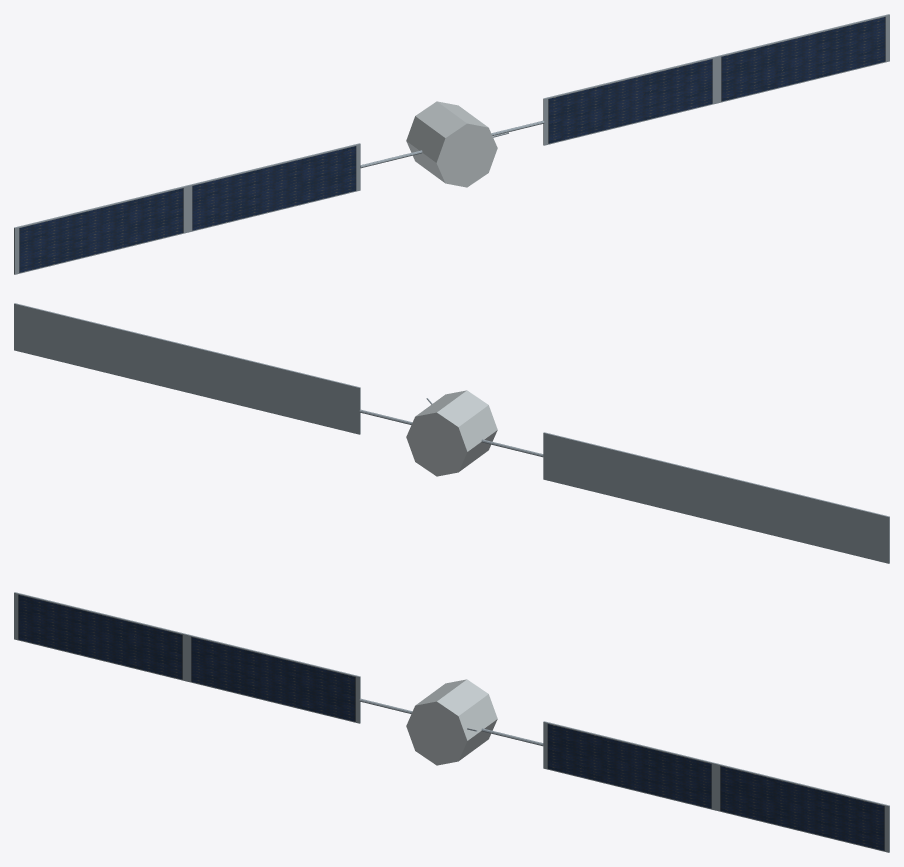
Rendered from ref-fr-2-4801.glb.
3 views of the same model, one above another, from view 1: azimuth 30°, elevation 25°; view 2: azimuth 150°, elevation 25°; view 3: azimuth 330°, elevation 25° (orthographic).
Visible parts, largest first — view 1: Photovoltaic laminates (×4), Spacecraft body, Array frame (×4); view 2: Array frame (×4), Spacecraft body; view 3: Photovoltaic laminates (×4), Spacecraft body, Array frame (×4).
Part boxes in pixels (x1,y1,x2,y2): Photovoltaic laminates (×4): (19,17,885,272); Spacecraft body: (406,101,497,187); Array frame (×4): (14,14,889,274); Array frame (×4): (14,303,889,563); Spacecraft body: (406,390,497,476); Photovoltaic laminates (×4): (18,595,884,850); Spacecraft body: (406,679,497,765); Array frame (×4): (14,592,889,852).
Size of the model in its own units: 10 by 0.7 by 0.6241.
3 materials, 1 textured.
